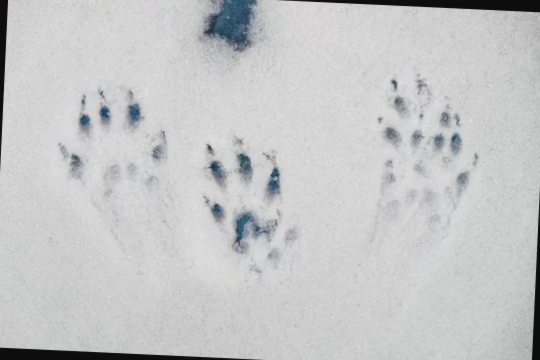ecureuil: (48, 69, 185, 284), (357, 57, 492, 267), (189, 120, 311, 289)
